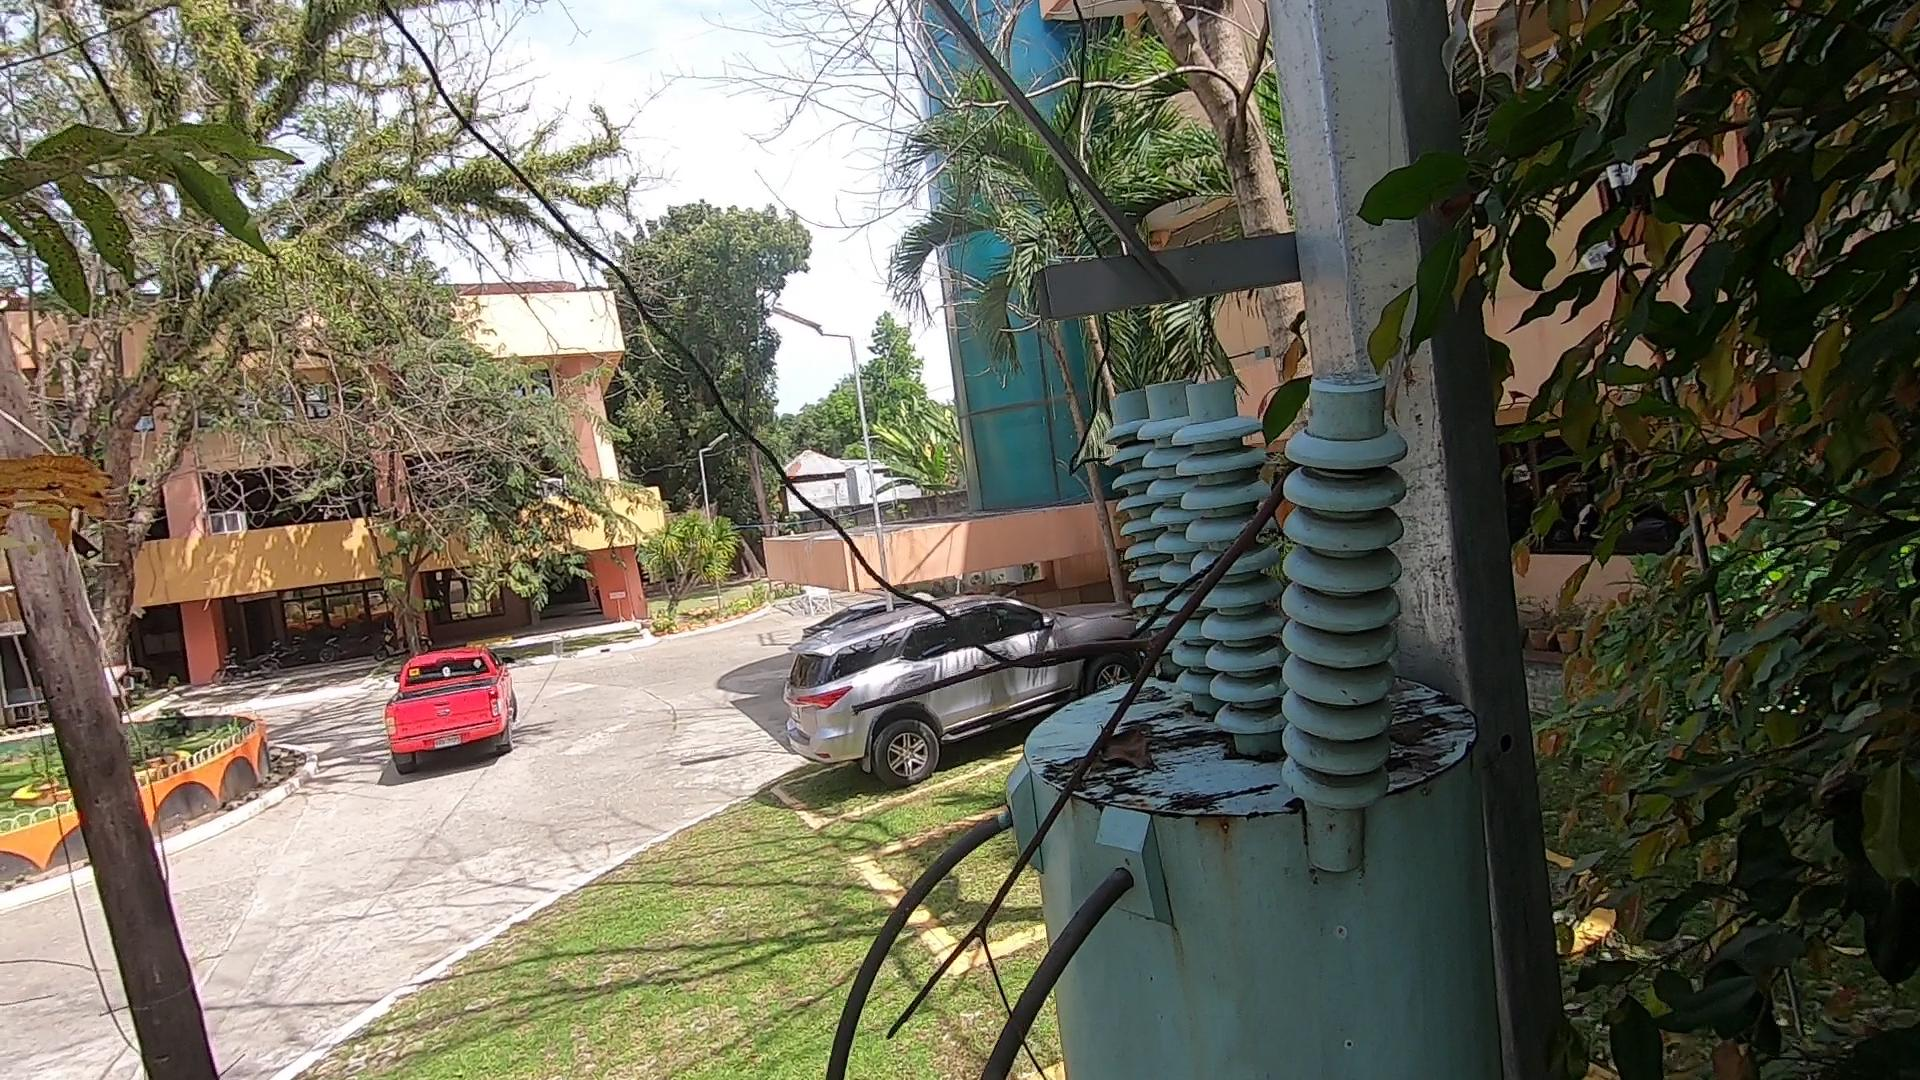leaf: (1087, 694, 1164, 785)
tree branch: (869, 398, 1324, 1080)
